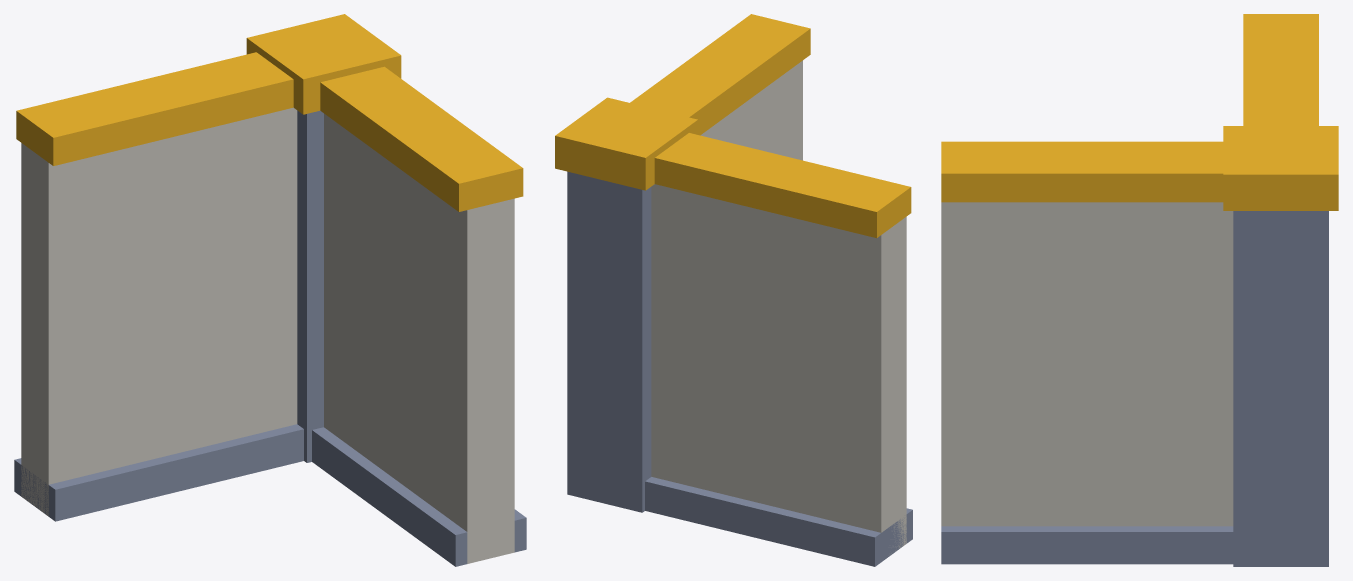
File: corner.glb
3 views of the same model, side by side, from view 1: azimuth 30°, elevation 25°; view 2: azimuth 150°, elevation 25°; view 3: azimuth 270°, elevation 25° (orthographic). The views are drawn at different scales.
Visible parts, largest first — view 1: corner; view 2: corner; view 3: corner.
Part boxes in pixels (x1,y1,x2,y2): corner: (14,14,526,566); corner: (555,14,912,566); corner: (941,14,1338,566).
Bounding box in the file's own units: 1 × 1.1 × 1.
